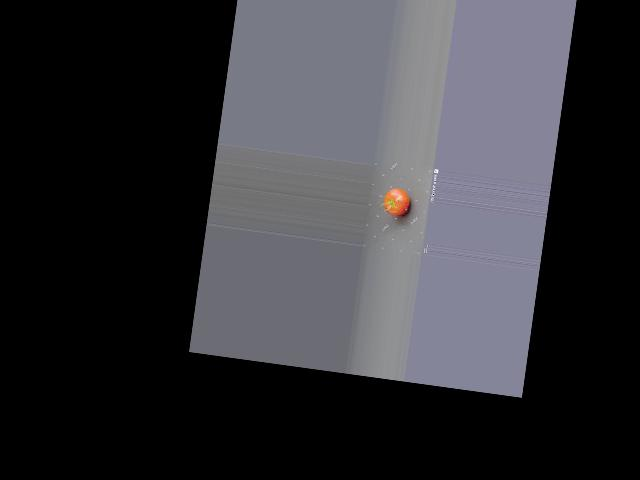tomato: (382, 187, 410, 217)
